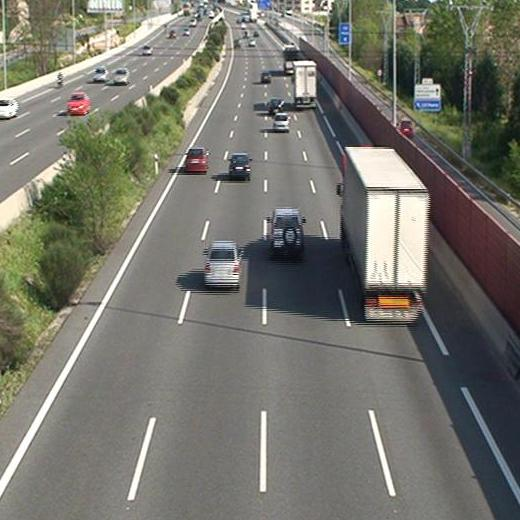car: (205, 243, 241, 287), (271, 210, 303, 253), (229, 153, 251, 178), (186, 148, 207, 171), (274, 115, 290, 131), (268, 100, 282, 113), (261, 74, 270, 83)
truck: (342, 148, 427, 319), (294, 62, 317, 109), (284, 45, 301, 74)
